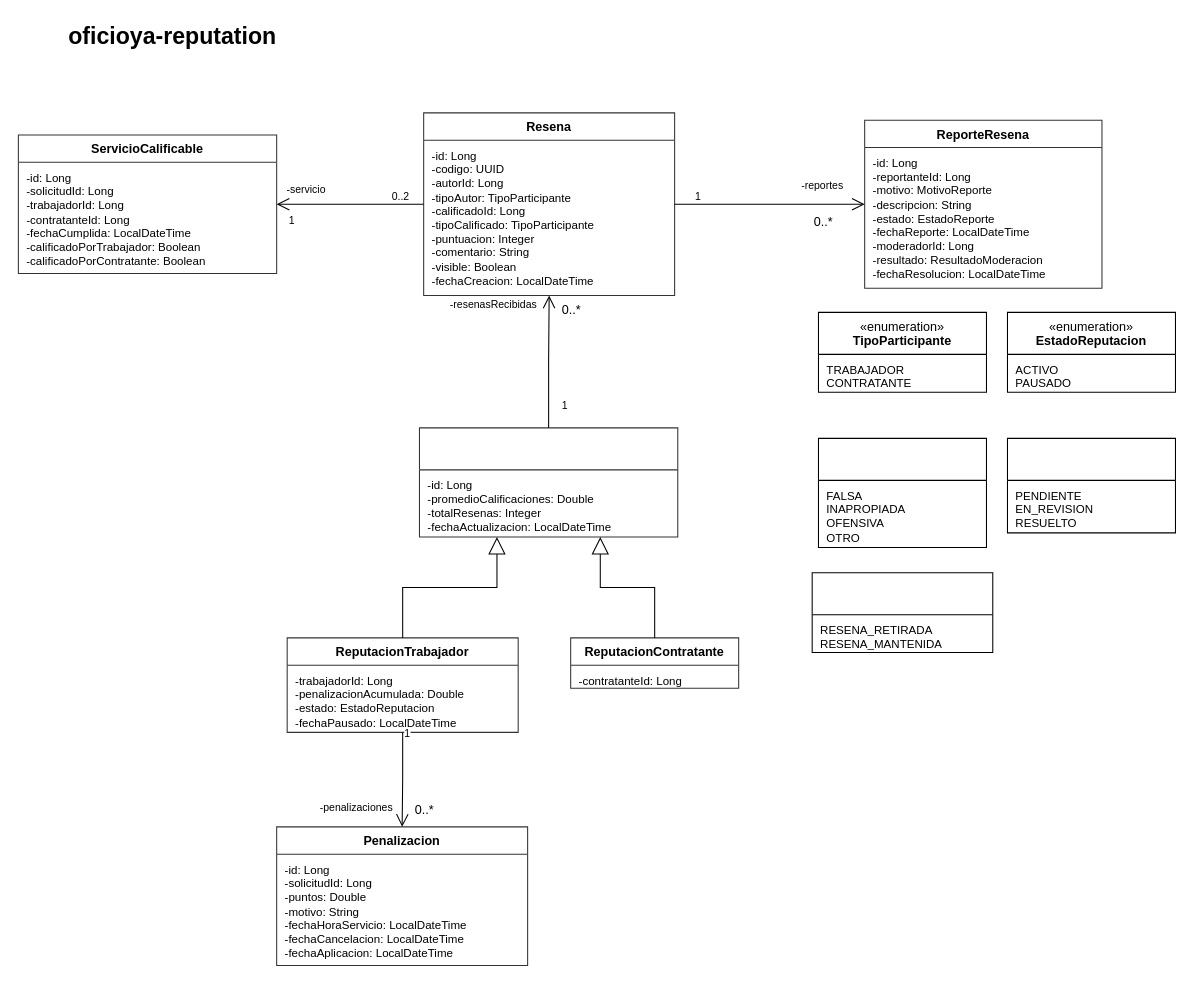
This 1194x986 diagram has some shape labels left out. The shapes that lost their labels are listed below. From the top down, each one's box as (x1, y1, x2, y2) in pixels, then its label:
(418, 427, 678, 537): «abstract» Reputacion
(817, 437, 986, 548): «enumeration» MotivoReporte
(1006, 437, 1175, 533): «enumeration» EstadoReporte
(811, 572, 993, 653): «enumeration» ResultadoModeracion
